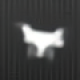plane: (15, 21, 68, 61)
